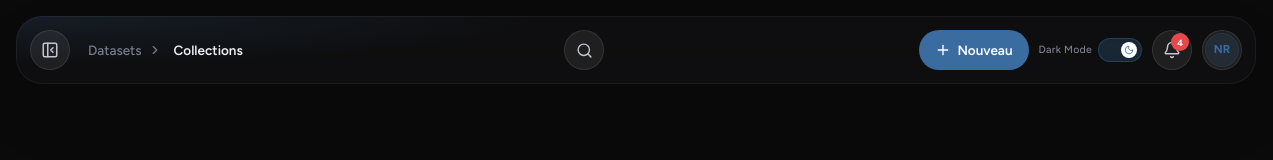
it: Navbar — responsive › replie la recherche sur son icône en tablette
This screenshot has width=1273, height=160.
Check: the field with placeholder "Rechercher…" is not shown
Click the button named "Rechercher" at (584, 50), box [564,30,604,70]
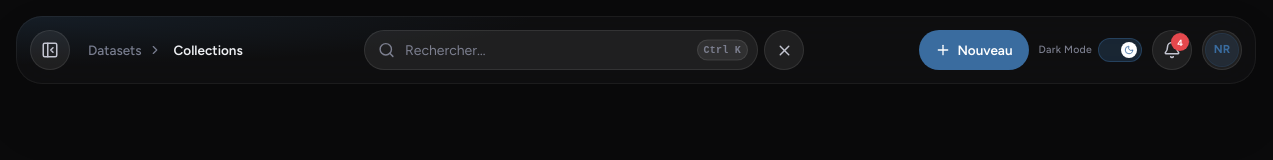
Check: the search field with placeholder "Rechercher…" is shown, box [364,30,758,70]
